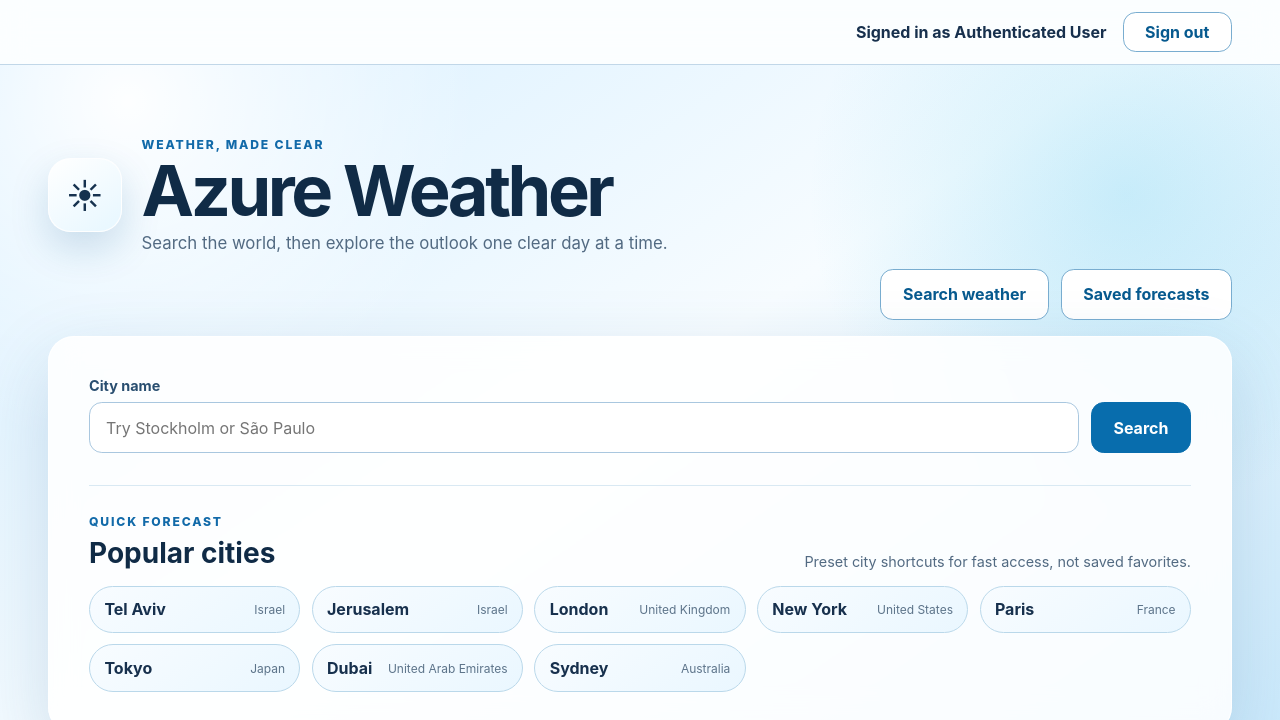
Scenario: App › shows a validation message without making a weather request
Expected: the text "Signed in as Authenticated User" is shown, [856,22,1106,42]
Click the button "Search": [1141, 428] box [1091,402,1191,453]
(page scrolled)
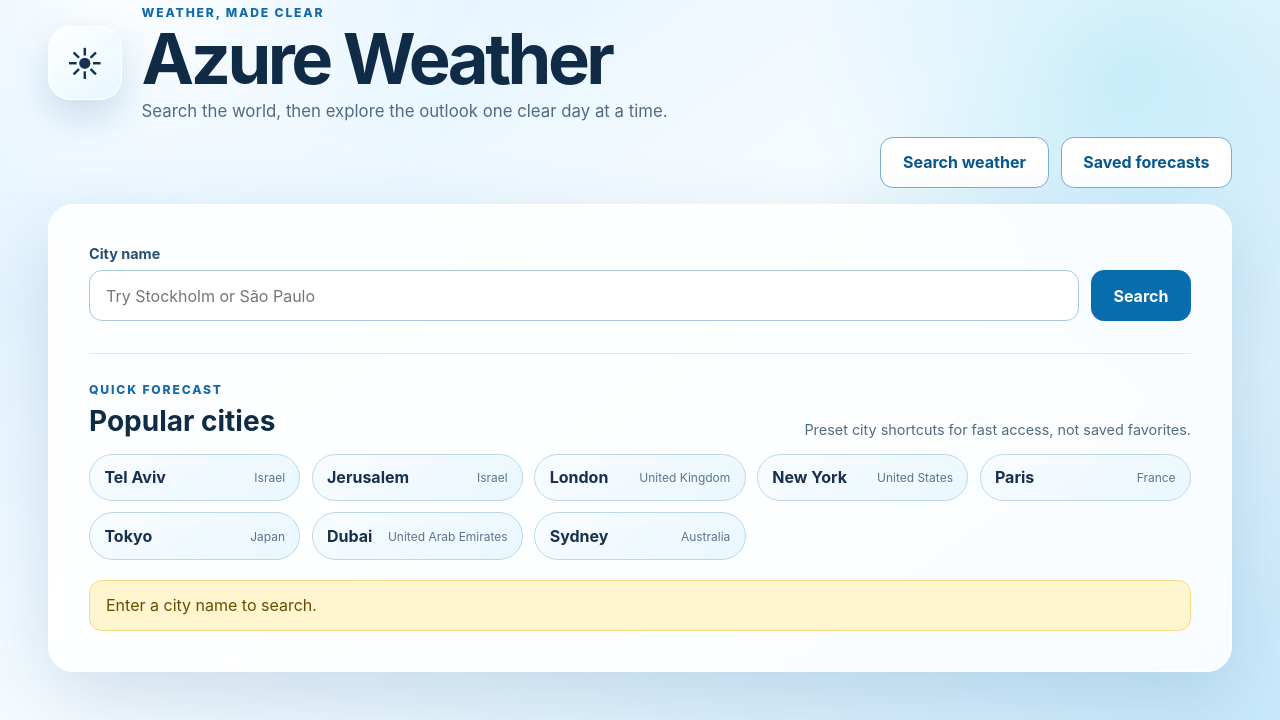
Now the message shows "Enter a city name", box [106,595,317,615]
